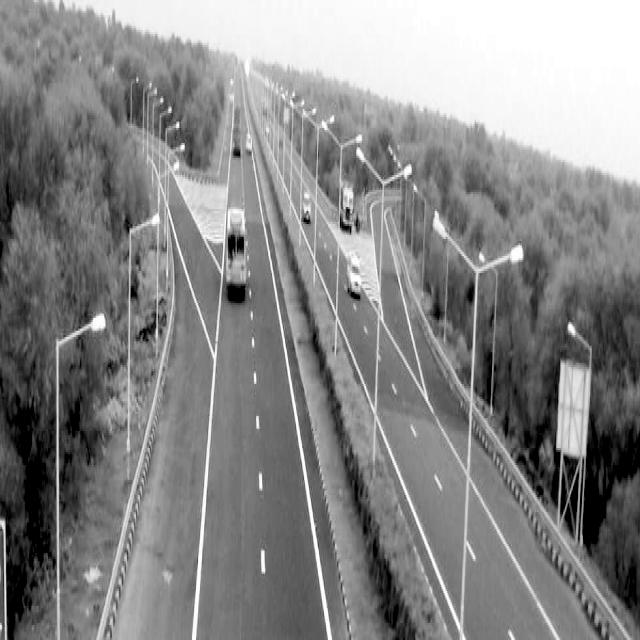cleat: (79, 9, 620, 640)
